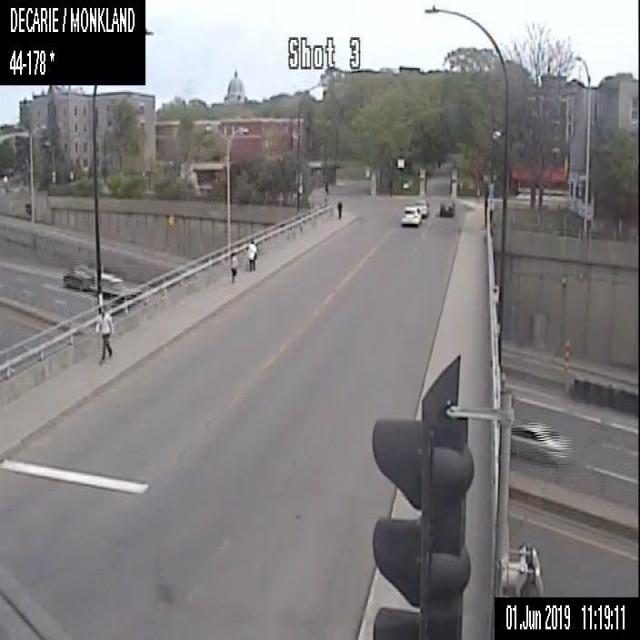construction: (563, 340, 570, 385)
pedestrian: (92, 304, 115, 364), (246, 237, 258, 271), (229, 251, 237, 281), (336, 200, 342, 219), (325, 180, 330, 196)
vehicle: (509, 420, 574, 465), (60, 263, 97, 293), (100, 268, 135, 297), (399, 204, 421, 226), (439, 199, 455, 216), (412, 198, 428, 215)
